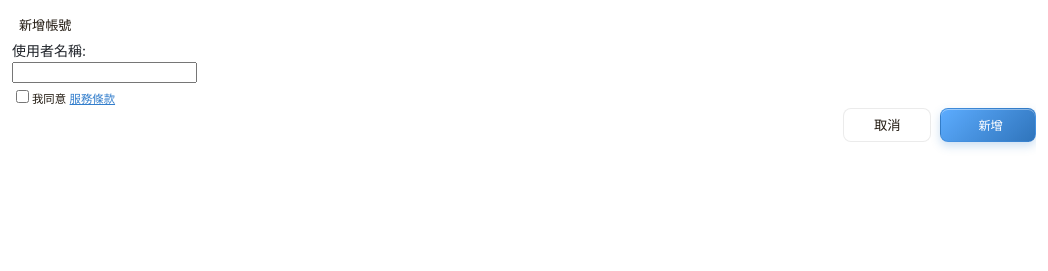
AddServiceAccount modal › terms hyperlink: opens the nested contract preview with the fetched text
Click the button with test id "add-service-account-terms" at {"x": 92, "y": 99}, box [70,90,115,108]
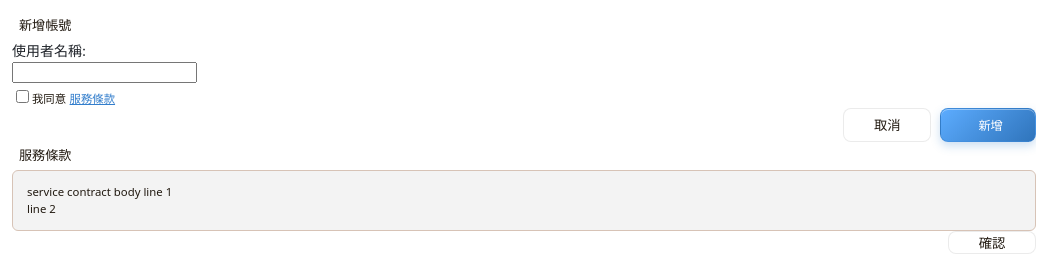
Now the element with test id "contract-dialog" is shown, box [12,142,1036,254]
Now the text with test id "contract-text" shows "service contract body line 1", box [27,184,172,216]
